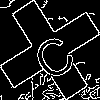C: (25, 25, 79, 83)
